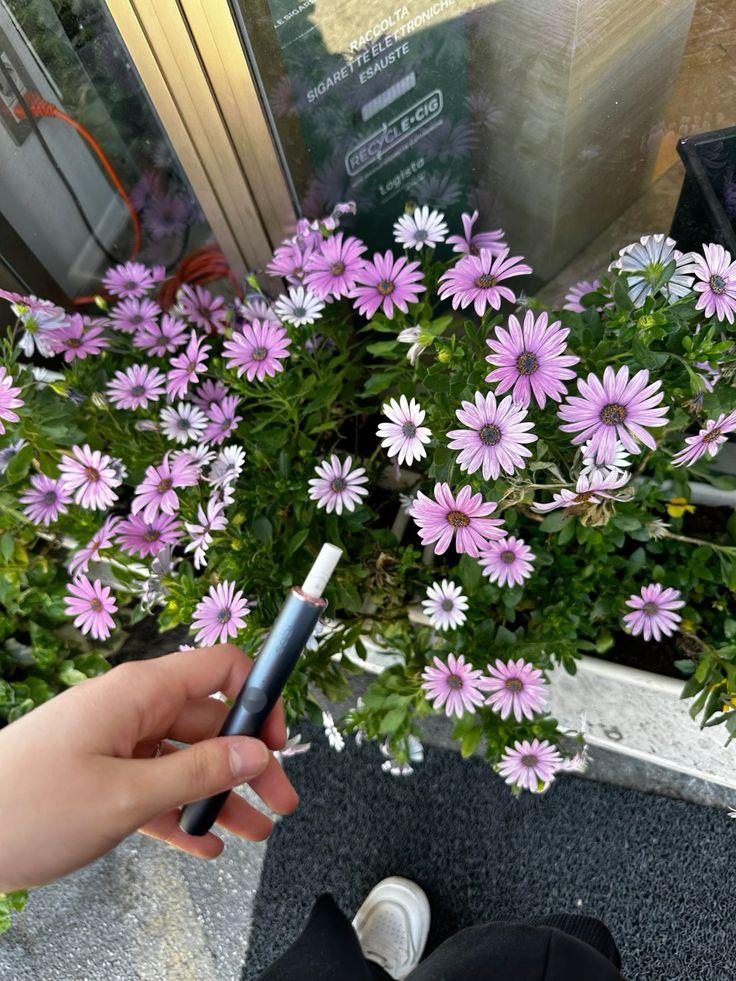iqos: (179, 542, 344, 837)
